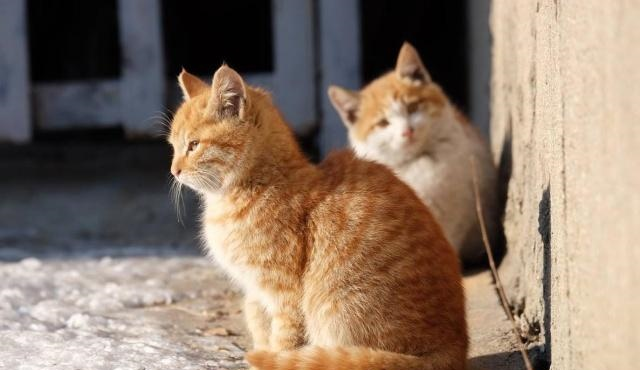cat: (167, 63, 469, 370), (325, 42, 499, 266)
